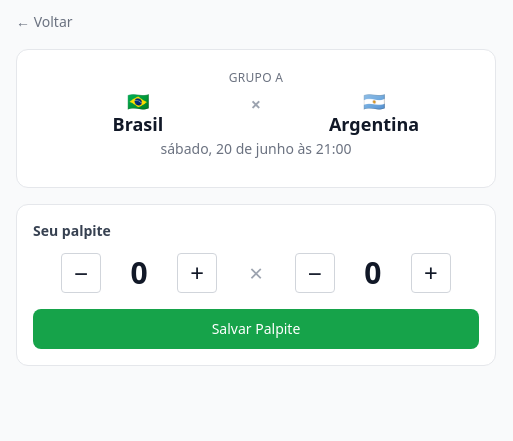
it: MatchDetails › saving prediction shows success message
Click the button "Salvar Palpite". click: (256, 329)
box: x1=33 y1=309 x2=479 y2=349
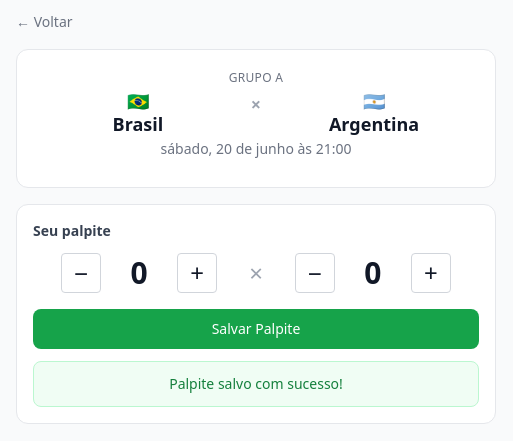
expect the text "Palpite salvo com sucesso!" is shown: met, box x1=33 y1=361 x2=479 y2=407
